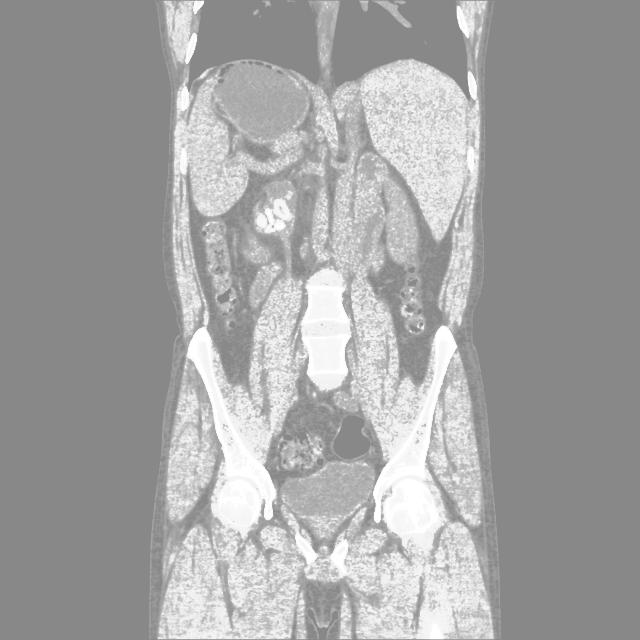STONE: (143, 149, 535, 571)
